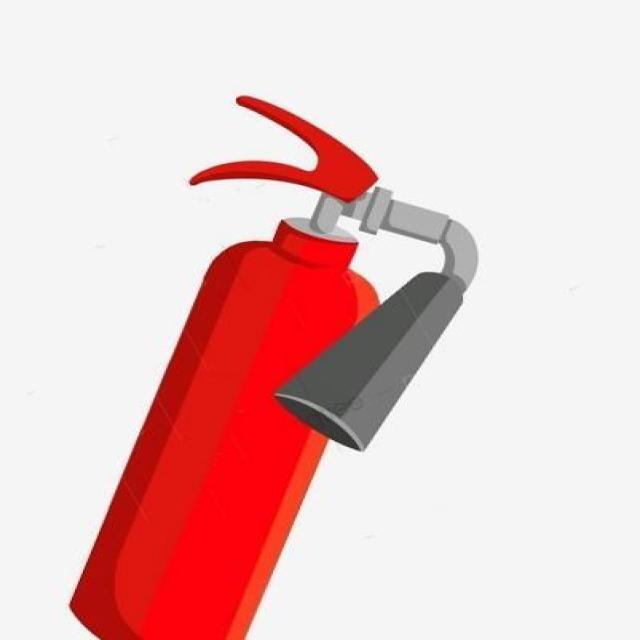fire_extinguisher: (45, 81, 486, 639)
